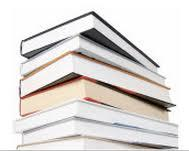Paper: (2, 4, 189, 151)
